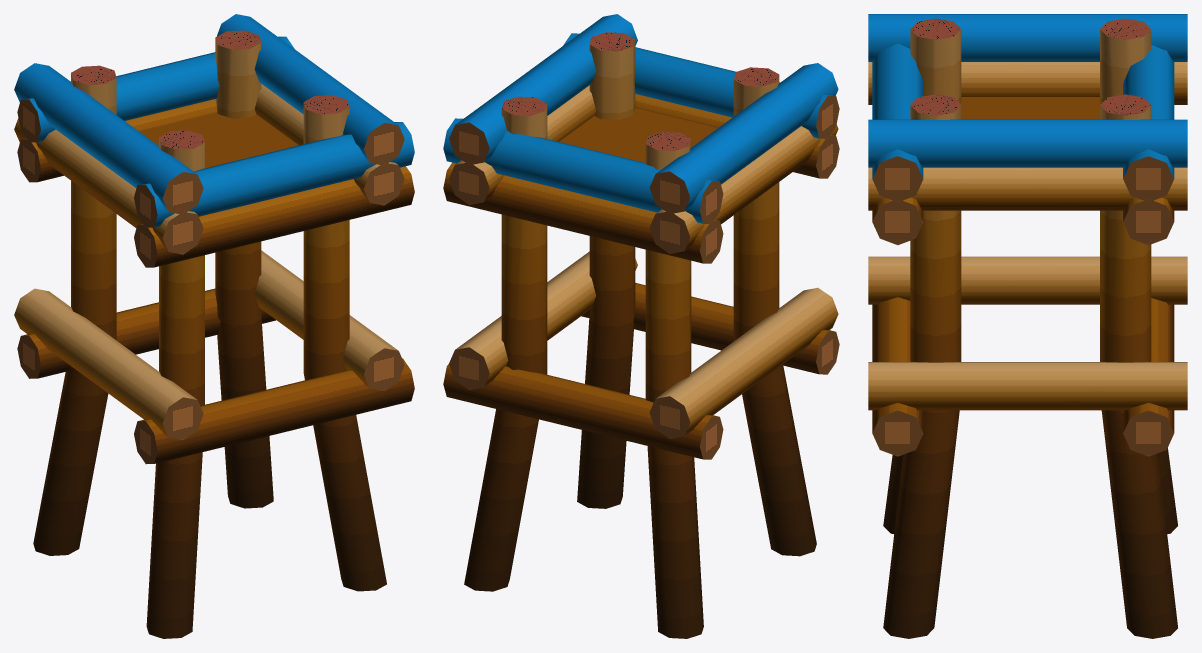
Rendered from TowerLv1Phase2.fbx.
3 views of the same model, side by side, from view 1: azimuth 30°, elevation 25°; view 2: azimuth 150°, elevation 25°; view 3: azimuth 270°, elevation 25° (orthographic). The views are drawn at different scales.
Visible parts, largest first — view 1: tower_lvl1; view 2: tower_lvl1; view 3: tower_lvl1.
Boxes of the visible parts, <box> form: tower_lvl1: <box>14,14,414,638</box>; tower_lvl1: <box>443,14,839,638</box>; tower_lvl1: <box>868,14,1187,638</box>.
Bounding box in the file's own units: 20 × 35.22 × 20.
